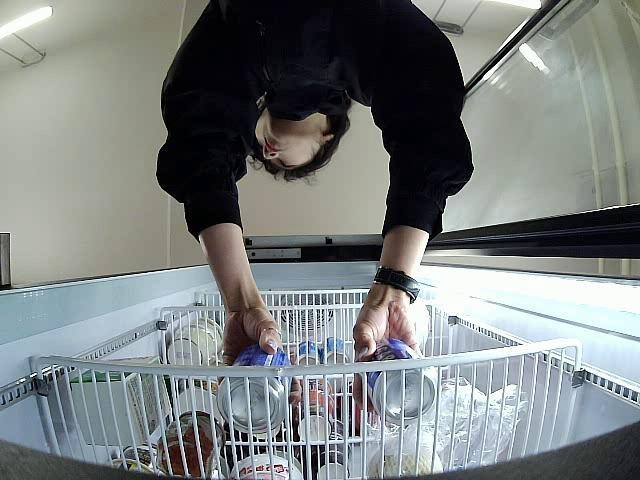13_pocariSweat: (215, 342, 292, 435), (367, 338, 438, 426)
